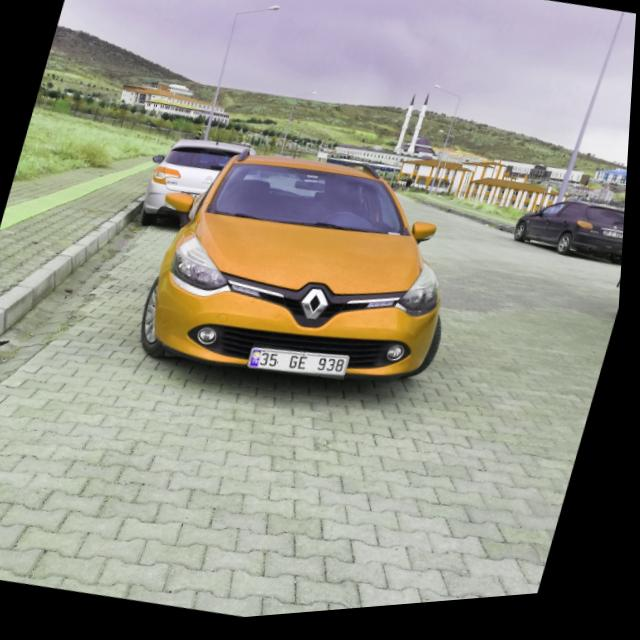license_plate: (251, 341, 355, 393)
